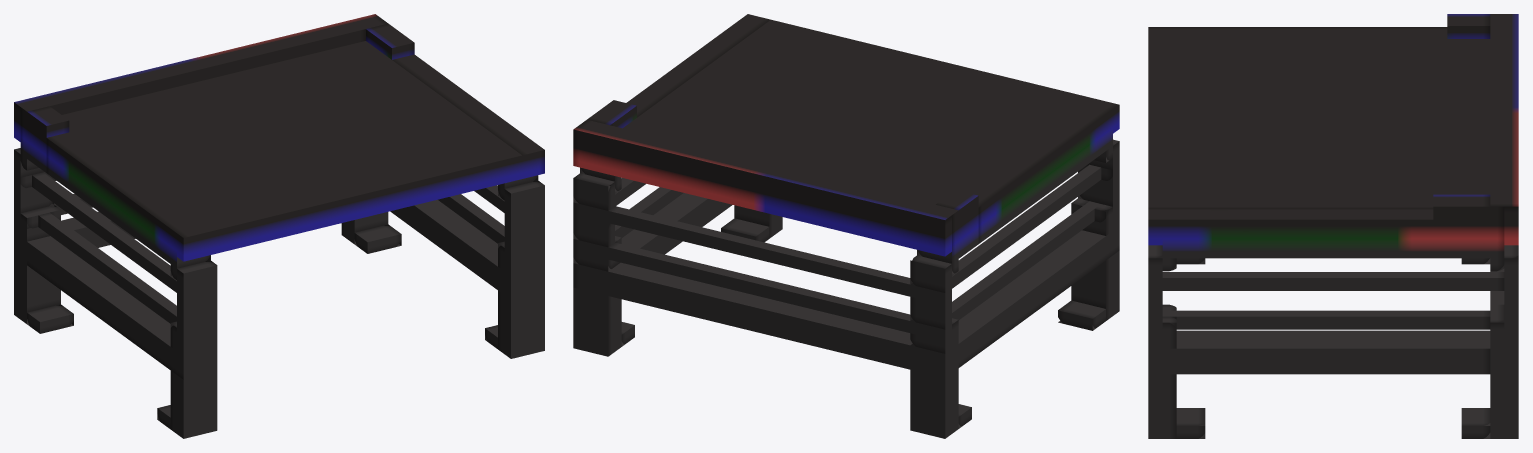
The model's file is BIURKO.dae.
3 views of the same model, side by side, from view 1: azimuth 30°, elevation 25°; view 2: azimuth 150°, elevation 25°; view 3: azimuth 270°, elevation 25° (orthographic). The views are drawn at different scales.
Parts seen in each view (by area): view 1: Content; view 2: Content; view 3: Content.
Part boxes in pixels (<box>): Content: <box>14,14,544,438</box>; Content: <box>573,14,1119,438</box>; Content: <box>1148,14,1518,438</box>.
Size of the model in its own units: 32 by 18 by 26.
Materials: 1 (1 with a texture image).
